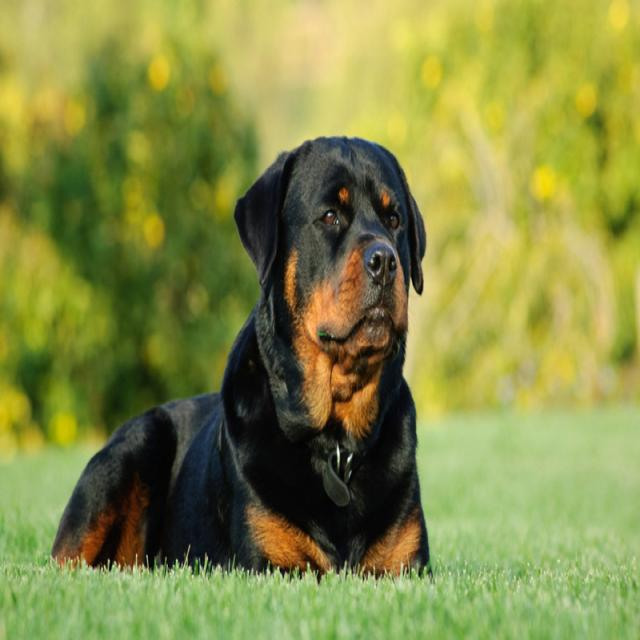rottweiler: (231, 116, 429, 401)
